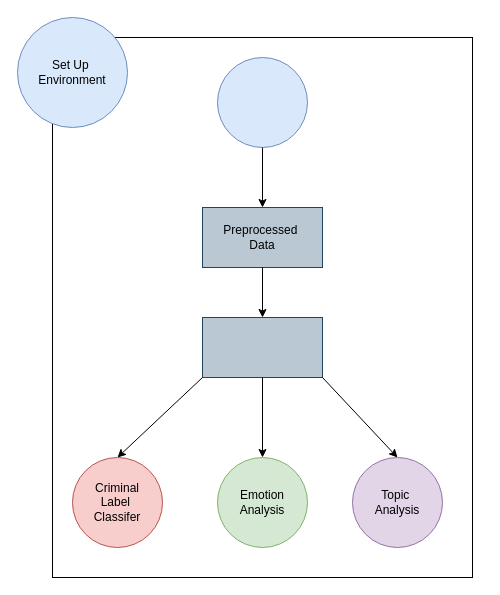
This 500x595 diagram has some shape labels left out. The box of each missing label's shape, as (x1, y1, x2, y2) in pixels:
Collect Raw Data: (216, 56, 308, 148)
Perform Modeling: (202, 316, 322, 378)
